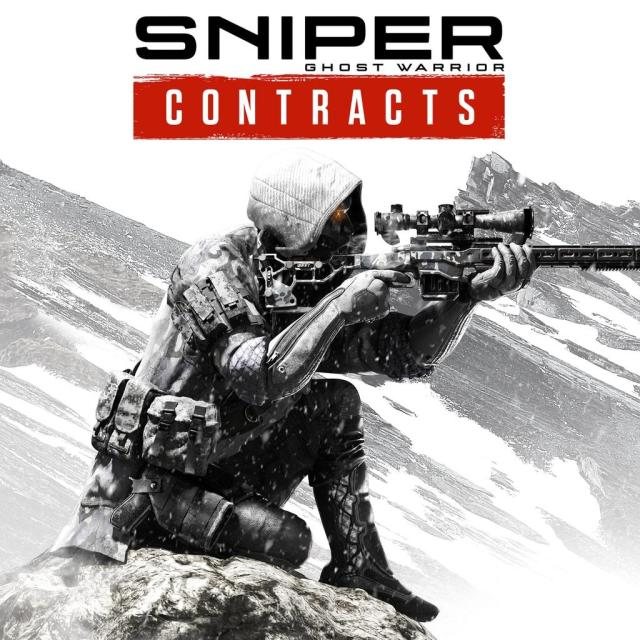weapon: (251, 202, 640, 313)
